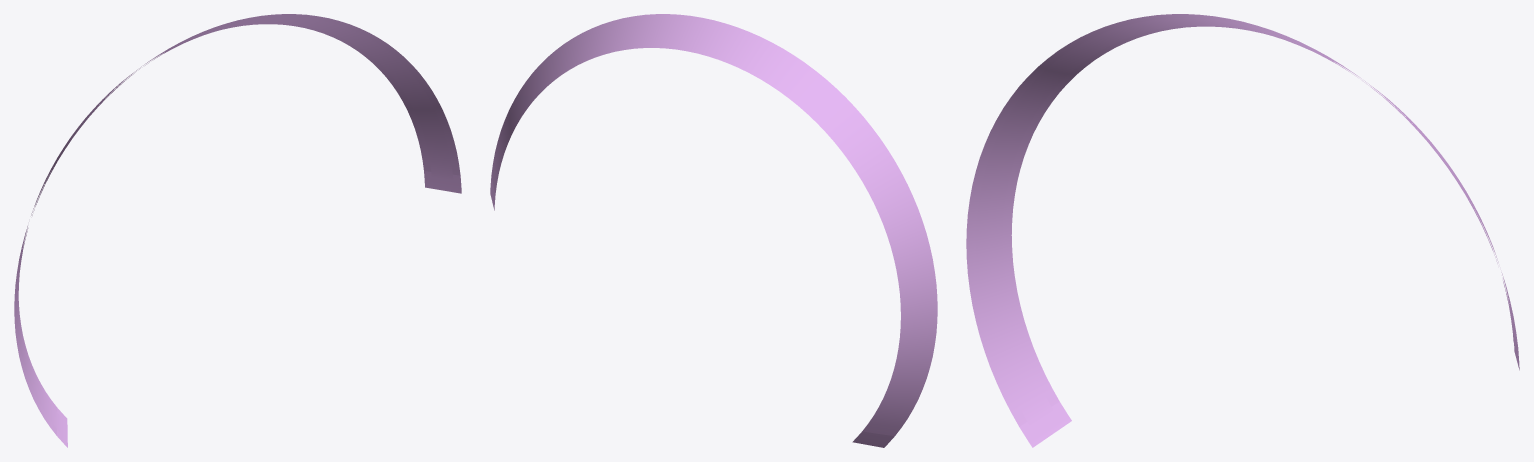
Rendered from Mesh_Note_37.fbx.
3 views of the same model, side by side, from view 1: azimuth 30°, elevation 25°; view 2: azimuth 150°, elevation 25°; view 3: azimuth 330°, elevation 25° (orthographic). The views are drawn at different scales.
Parts seen in each view (by area): view 1: Mesh_Note_37; view 2: Mesh_Note_37; view 3: Mesh_Note_37.
Boxes of the visible parts, left/top/right/bottom form: Mesh_Note_37: left=14, top=14, right=461, bottom=447; Mesh_Note_37: left=490, top=14, right=937, bottom=447; Mesh_Note_37: left=966, top=14, right=1519, bottom=447.
Size of the model in its own units: 3.56 by 2.93 by 0.2235.
